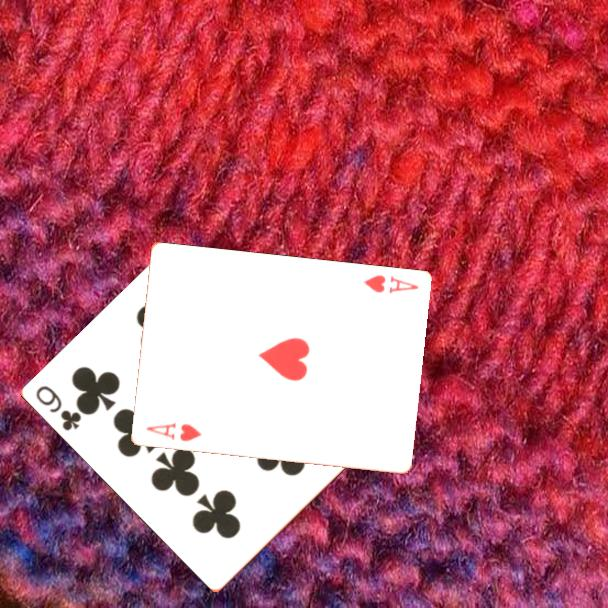c09: (33, 382, 85, 434)
h01: (360, 271, 421, 297), (143, 419, 204, 444)
